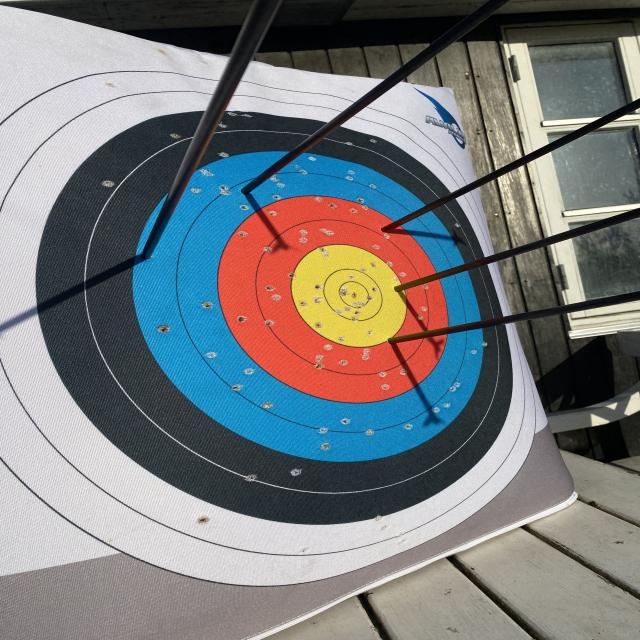Arrow_Blue: (132, 236, 170, 268), (231, 178, 274, 202)
Arrow_Red: (358, 221, 412, 243), (378, 326, 412, 356)
Arrow_Yellow: (383, 273, 416, 304)
